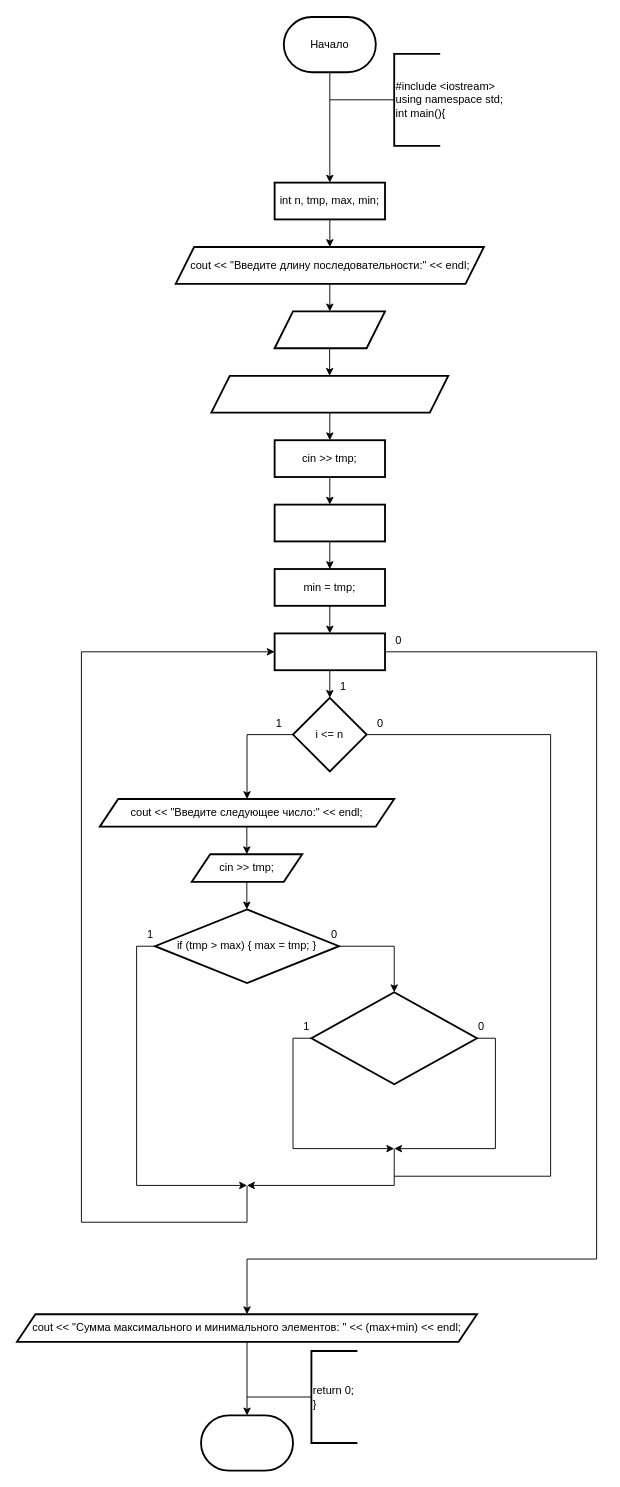
Some shapes in this 620 by 1487 pixel diagram are drawn without their labels. Each missing label, with the box of its shape:
cin >> n;: (273, 310, 385, 349)
cout << "Введите первое число:" << endl;: (210, 374, 449, 413)
if (tmp < min) { min = tmp; }: (310, 991, 477, 1085)
int i = 2;: (273, 632, 385, 671)
max = tmp;: (273, 503, 385, 542)
Конец: (200, 1414, 293, 1471)
